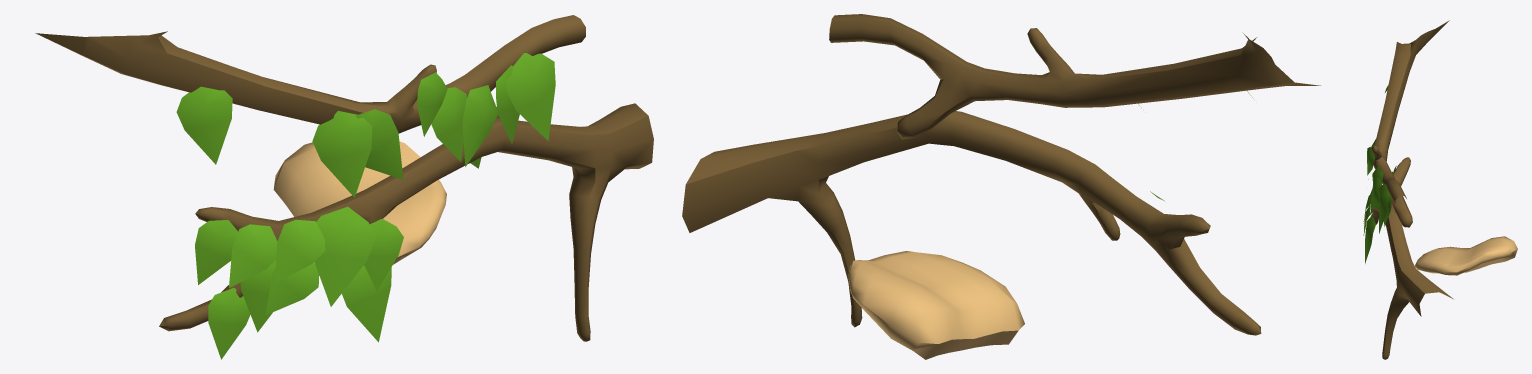
File: vines-evs4.glb
The picture shows the model from 3 angles, left to right: view 1: azimuth 30°, elevation 25°; view 2: azimuth 150°, elevation 25°; view 3: azimuth 270°, elevation 25°; orthographic projection. The views are drawn at different scales.
Visible parts, largest first — view 1: Vines; view 2: Vines; view 3: Vines.
Part boxes in pixels (box(x1,y1,x2,y2)): Vines: box(35, 15, 653, 359); Vines: box(682, 14, 1320, 359); Vines: box(1363, 20, 1517, 359).
Bounding box in the file's own units: 2.46 × 1.54 × 1.02.
1 material, 1 textured.
